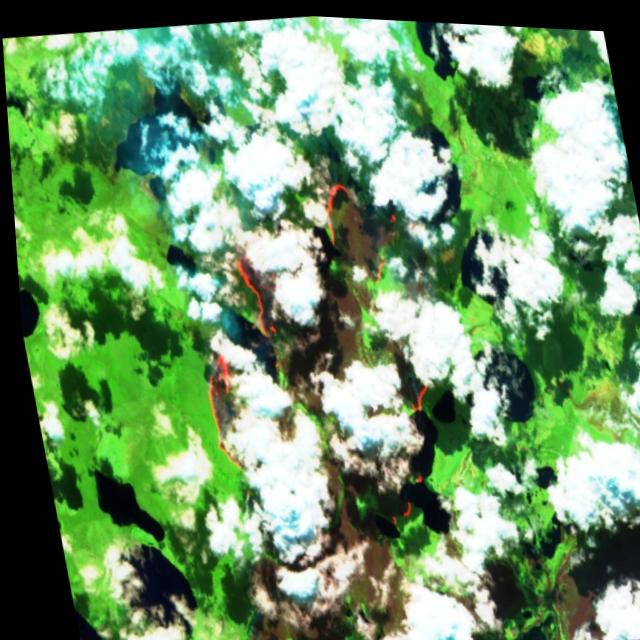fire: (158, 146, 465, 549)
